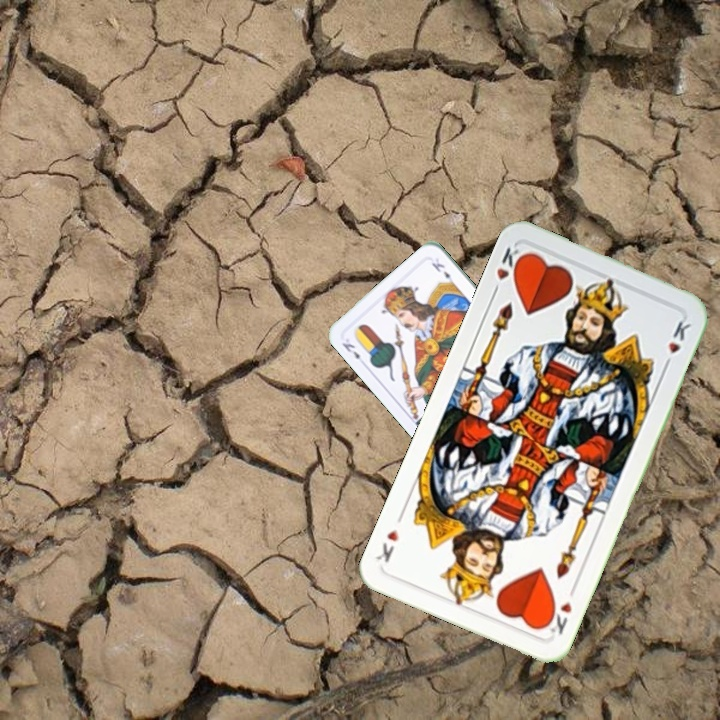EK: (338, 338, 362, 362)
HK: (488, 242, 528, 298), (541, 583, 579, 638)
